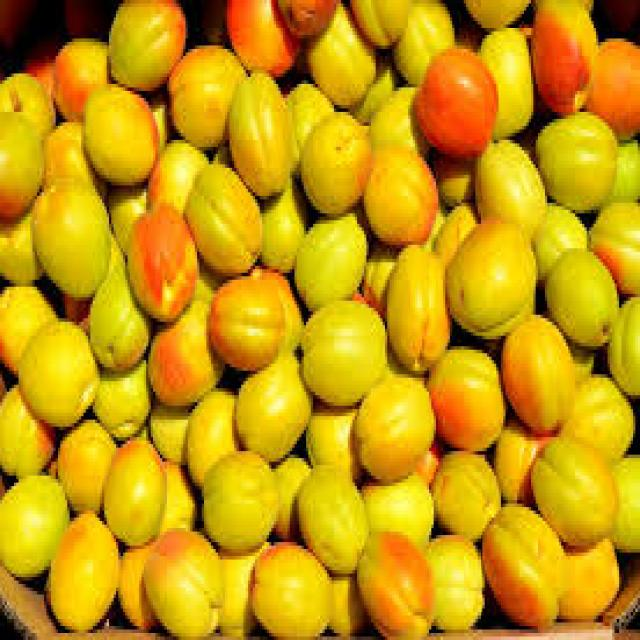kayisi: (8, 1, 634, 632)
